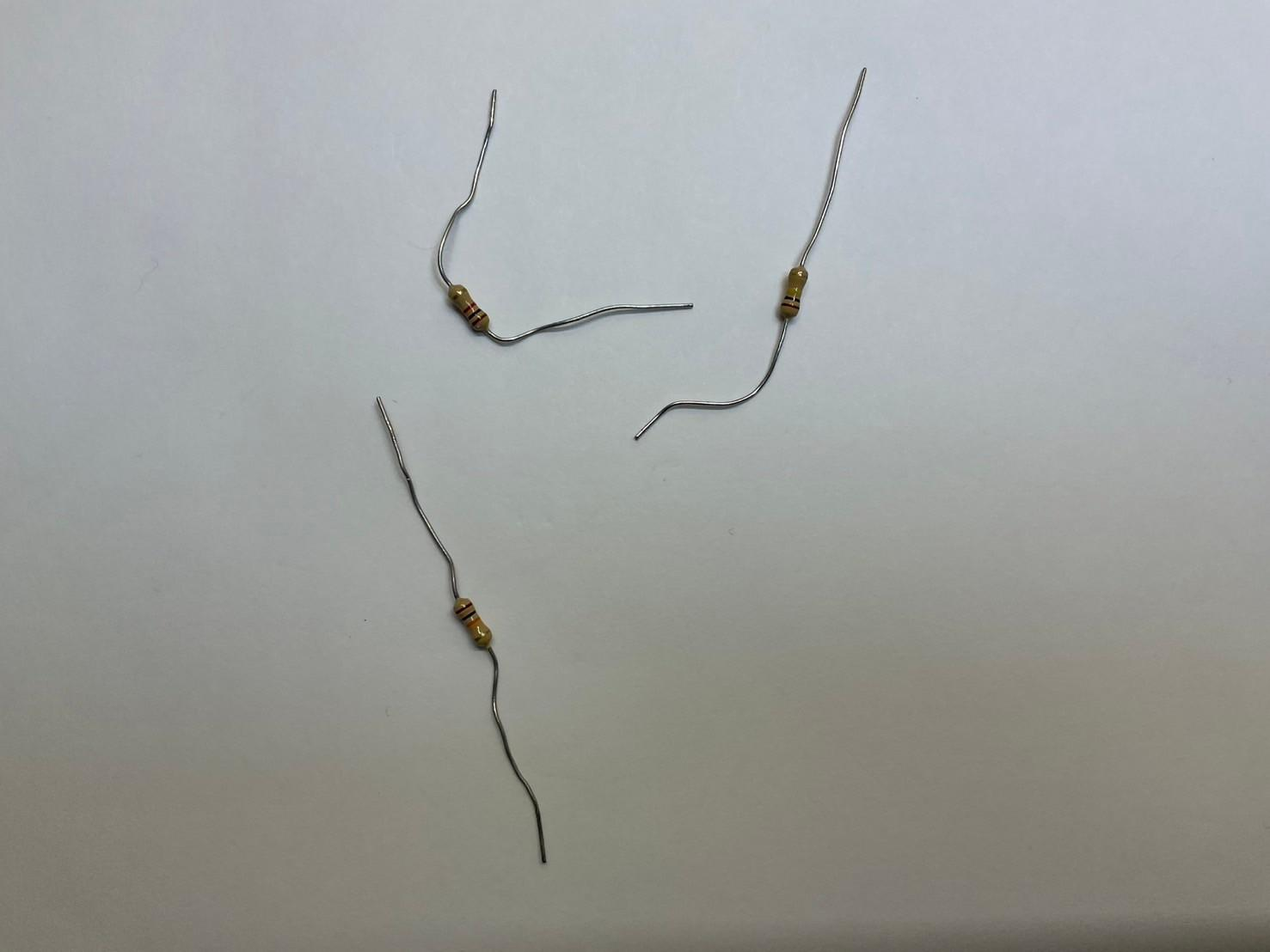resistor: (443, 284, 491, 334), (453, 597, 492, 650), (782, 263, 809, 318)
